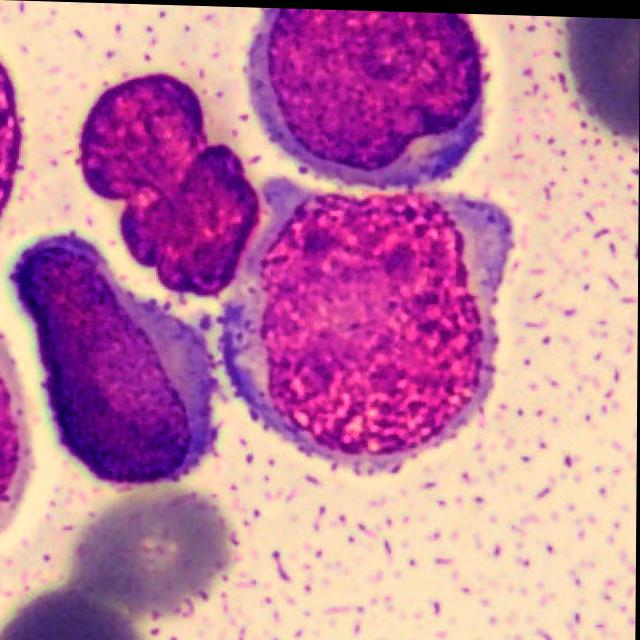Mieloblasto: (225, 175, 512, 472), (245, 6, 491, 187)
